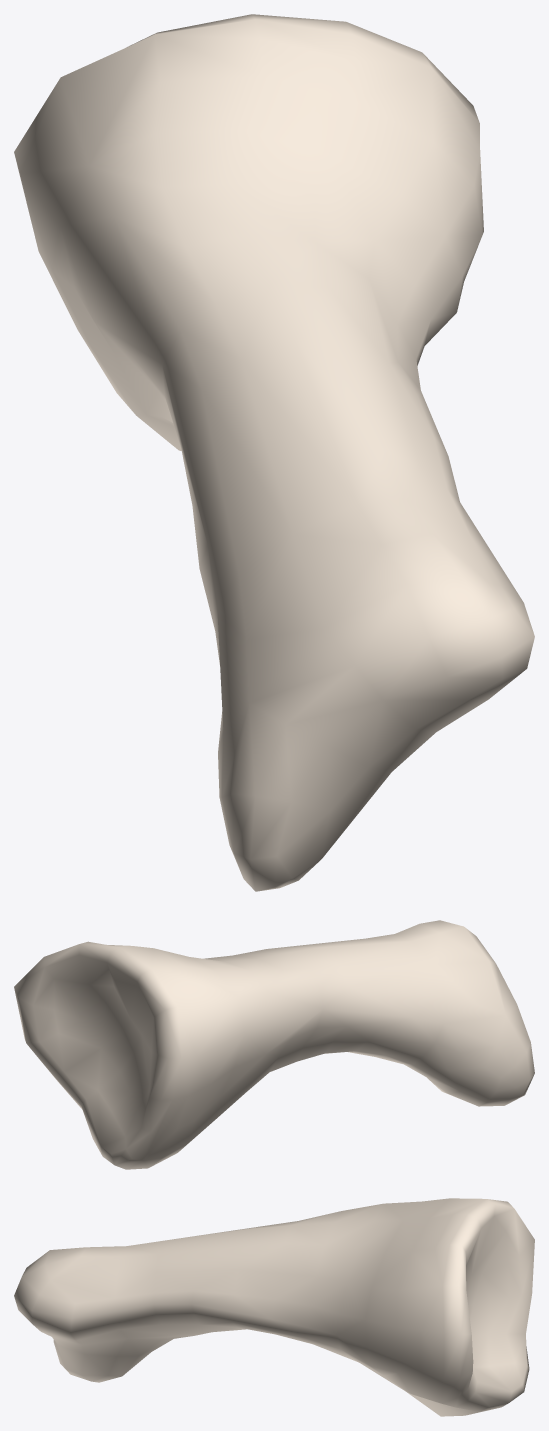
File: right_toe_4_proximal.glb
The picture shows the model from 3 angles, top to bottom: view 1: azimuth 30°, elevation 25°; view 2: azimuth 150°, elevation 25°; view 3: azimuth 270°, elevation 25°; orthographic projection. The views are drawn at different scales.
Parts seen in each view (by area): view 1: Proximal phalanx of fourth finger of foot.r; view 2: Proximal phalanx of fourth finger of foot.r; view 3: Proximal phalanx of fourth finger of foot.r.
Part boxes in pixels (bbox=[...]): Proximal phalanx of fourth finger of foot.r: bbox=[14, 14, 534, 891]; Proximal phalanx of fourth finger of foot.r: bbox=[14, 920, 534, 1169]; Proximal phalanx of fourth finger of foot.r: bbox=[14, 1198, 534, 1416].
Size of the model in its own units: 0.0179 by 0.0136 by 0.0256.
